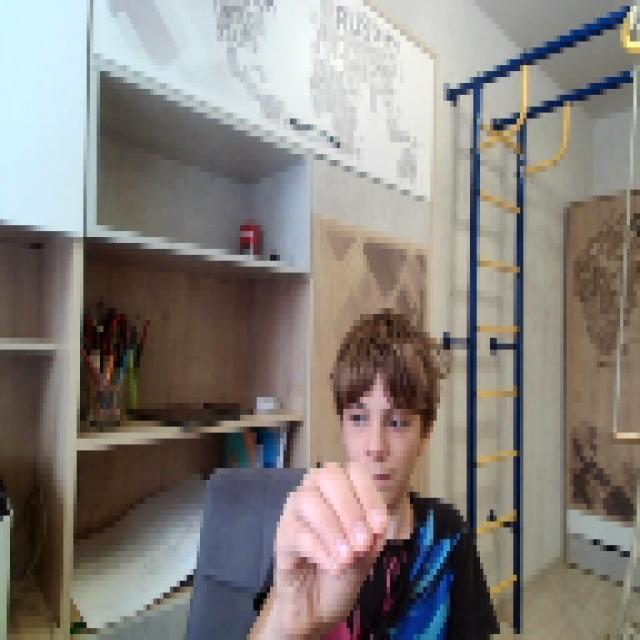left_click: (266, 451, 386, 628)
